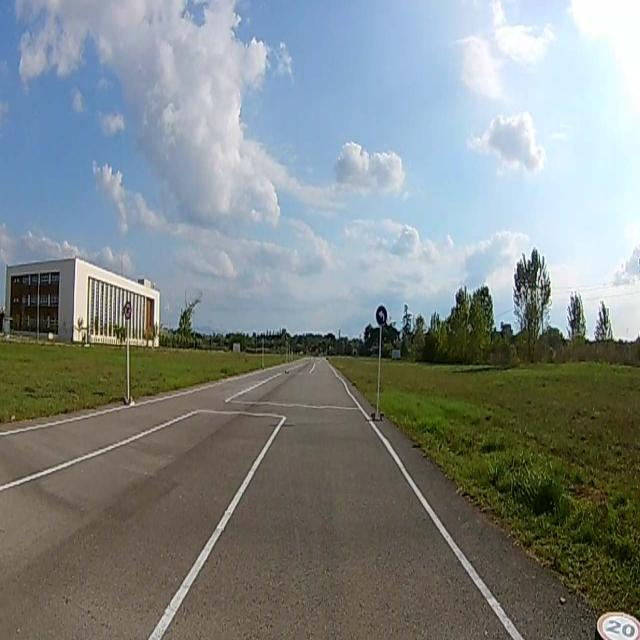sagadonulmez: (123, 302, 131, 318)
sol: (376, 306, 387, 326)
